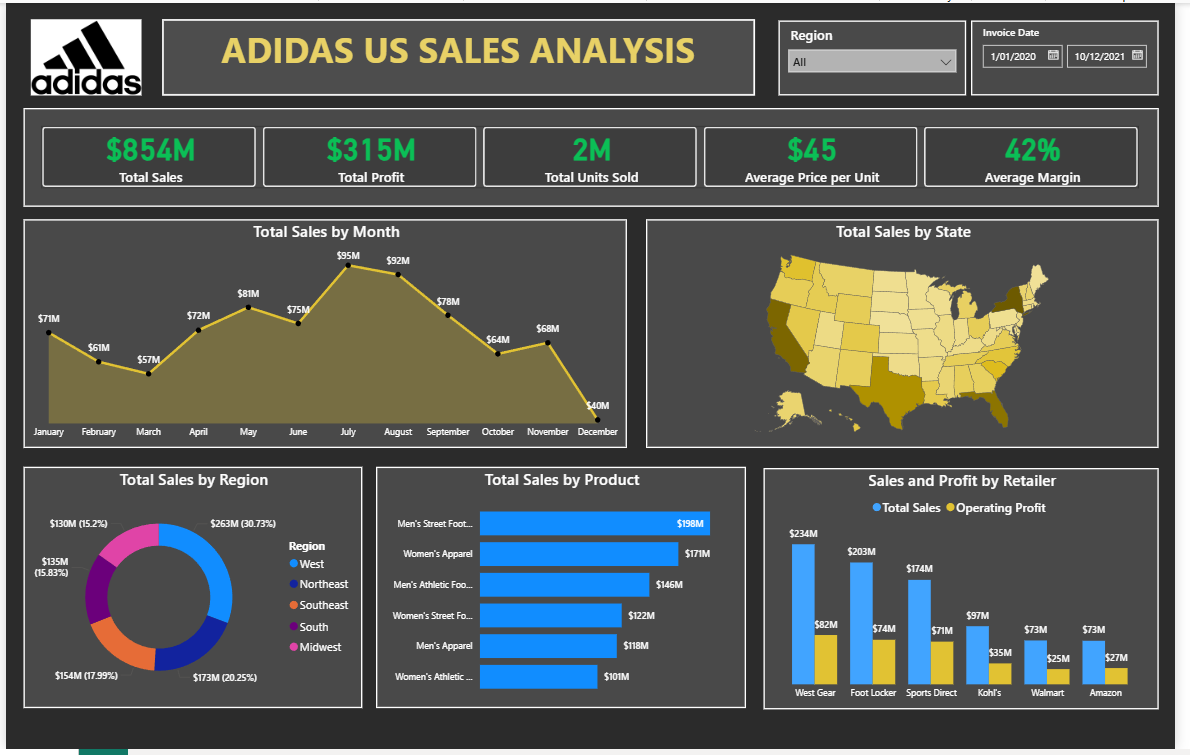

The dashboard page shown, as its layout file describes it:
{"tool":"powerbi","page":{"name":"Adidas_Sales_Analysis","canvas":[1410,900],"ordinal":0},"visuals":[{"type":"shape","box":[188.5,19.6,714.8,92],"z":0},{"type":"textbox","box":[188.5,19.6,714.8,92],"z":1000},{"type":"cardVisual","fields":{"Data":["Sum(Data Sales Adidas.Total Sales)","Sum(Data Sales Adidas.Operating Profit)","Sum(Data Sales Adidas.Units Sold)","Avg(Data Sales Adidas.Price per Unit)","Avg(Data Sales Adidas.Operating Margin)"]},"box":[21.1,126.7,1369.3,119.1],"z":2000},{"type":"areaChart","title":"Total Sales by Month","fields":{"Category":["Data Sales Adidas.Invoice Date.Variation.Date Hierarchy.Month"],"Y":["Sum(Data Sales Adidas.Total Sales)"]},"box":[21.1,260.9,728.4,276],"z":3000},{"type":"donutChart","title":"Total Sales by Region","fields":{"Category":["Data Sales Adidas.Region"],"Y":["Sum(Data Sales Adidas.Total Sales)"]},"box":[21.1,559.5,408.7,291.1],"z":4000},{"type":"barChart","title":"Total Sales by Product","fields":{"Category":["Data Sales Adidas.Product"],"Y":["Sum(Data Sales Adidas.Total Sales)"]},"box":[446.4,559.5,446.4,291.1],"z":5000},{"type":"slicer","fields":{"Values":["Data Sales Adidas.Region"]},"box":[932,21.1,226.2,90.5],"z":6000},{"type":"image","box":[21.1,19.6,150.8,92],"z":8000},{"type":"clusteredColumnChart","title":"Sales and Profit by Retailer","fields":{"Y":["Sum(Data Sales Adidas.Total Sales)","Sum(Data Sales Adidas.Operating Profit)"],"Category":["Data Sales Adidas.Retailer"]},"box":[913.9,561,476.5,291.1],"z":9000},{"type":"shapeMap","title":"Total Sales by State","fields":{"Category":["Data Sales Adidas.State"],"Value":["Sum(Data Sales Adidas.Total Sales)"]},"box":[772.1,260.9,618.3,276],"z":10000},{"type":"slicer","fields":{"Values":["Data Sales Adidas.Invoice Date"]},"box":[1164.2,21.1,226.2,90.5],"z":11000}]}

Visuals, with their boxes in screenshot pixels (x1, y1, x2, y2), scaled from the page's 1410x900 canvas onto the 1190x755 screenshot:
shape: BBox(159, 16, 762, 94)
textbox: BBox(159, 16, 762, 94)
cardVisual - Sum(Data Sales Adidas.Total Sales) x Sum(Data Sales Adidas.Operating Profit): BBox(18, 106, 1173, 206)
"Total Sales by Month" areaChart: BBox(18, 219, 633, 450)
"Total Sales by Region" donutChart: BBox(18, 469, 363, 714)
"Total Sales by Product" barChart: BBox(377, 469, 753, 714)
slicer - Data Sales Adidas.Region: BBox(787, 18, 977, 94)
image: BBox(18, 16, 145, 94)
"Sales and Profit by Retailer" clusteredColumnChart: BBox(771, 471, 1173, 715)
"Total Sales by State" shapeMap: BBox(652, 219, 1173, 450)
slicer - Data Sales Adidas.Invoice Date: BBox(983, 18, 1173, 94)
